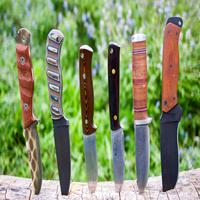knife: (6, 23, 47, 200), (154, 14, 186, 199), (69, 42, 106, 197), (41, 22, 73, 197), (125, 33, 160, 189), (102, 39, 133, 199)
